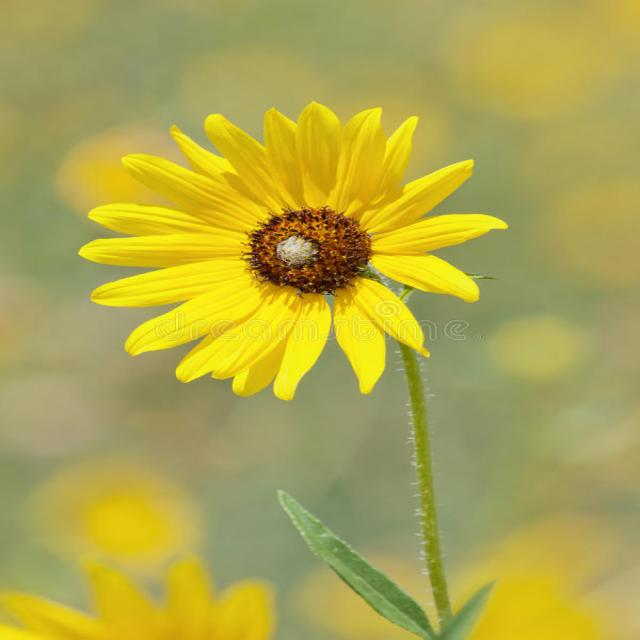sunflower: (60, 90, 506, 412)
